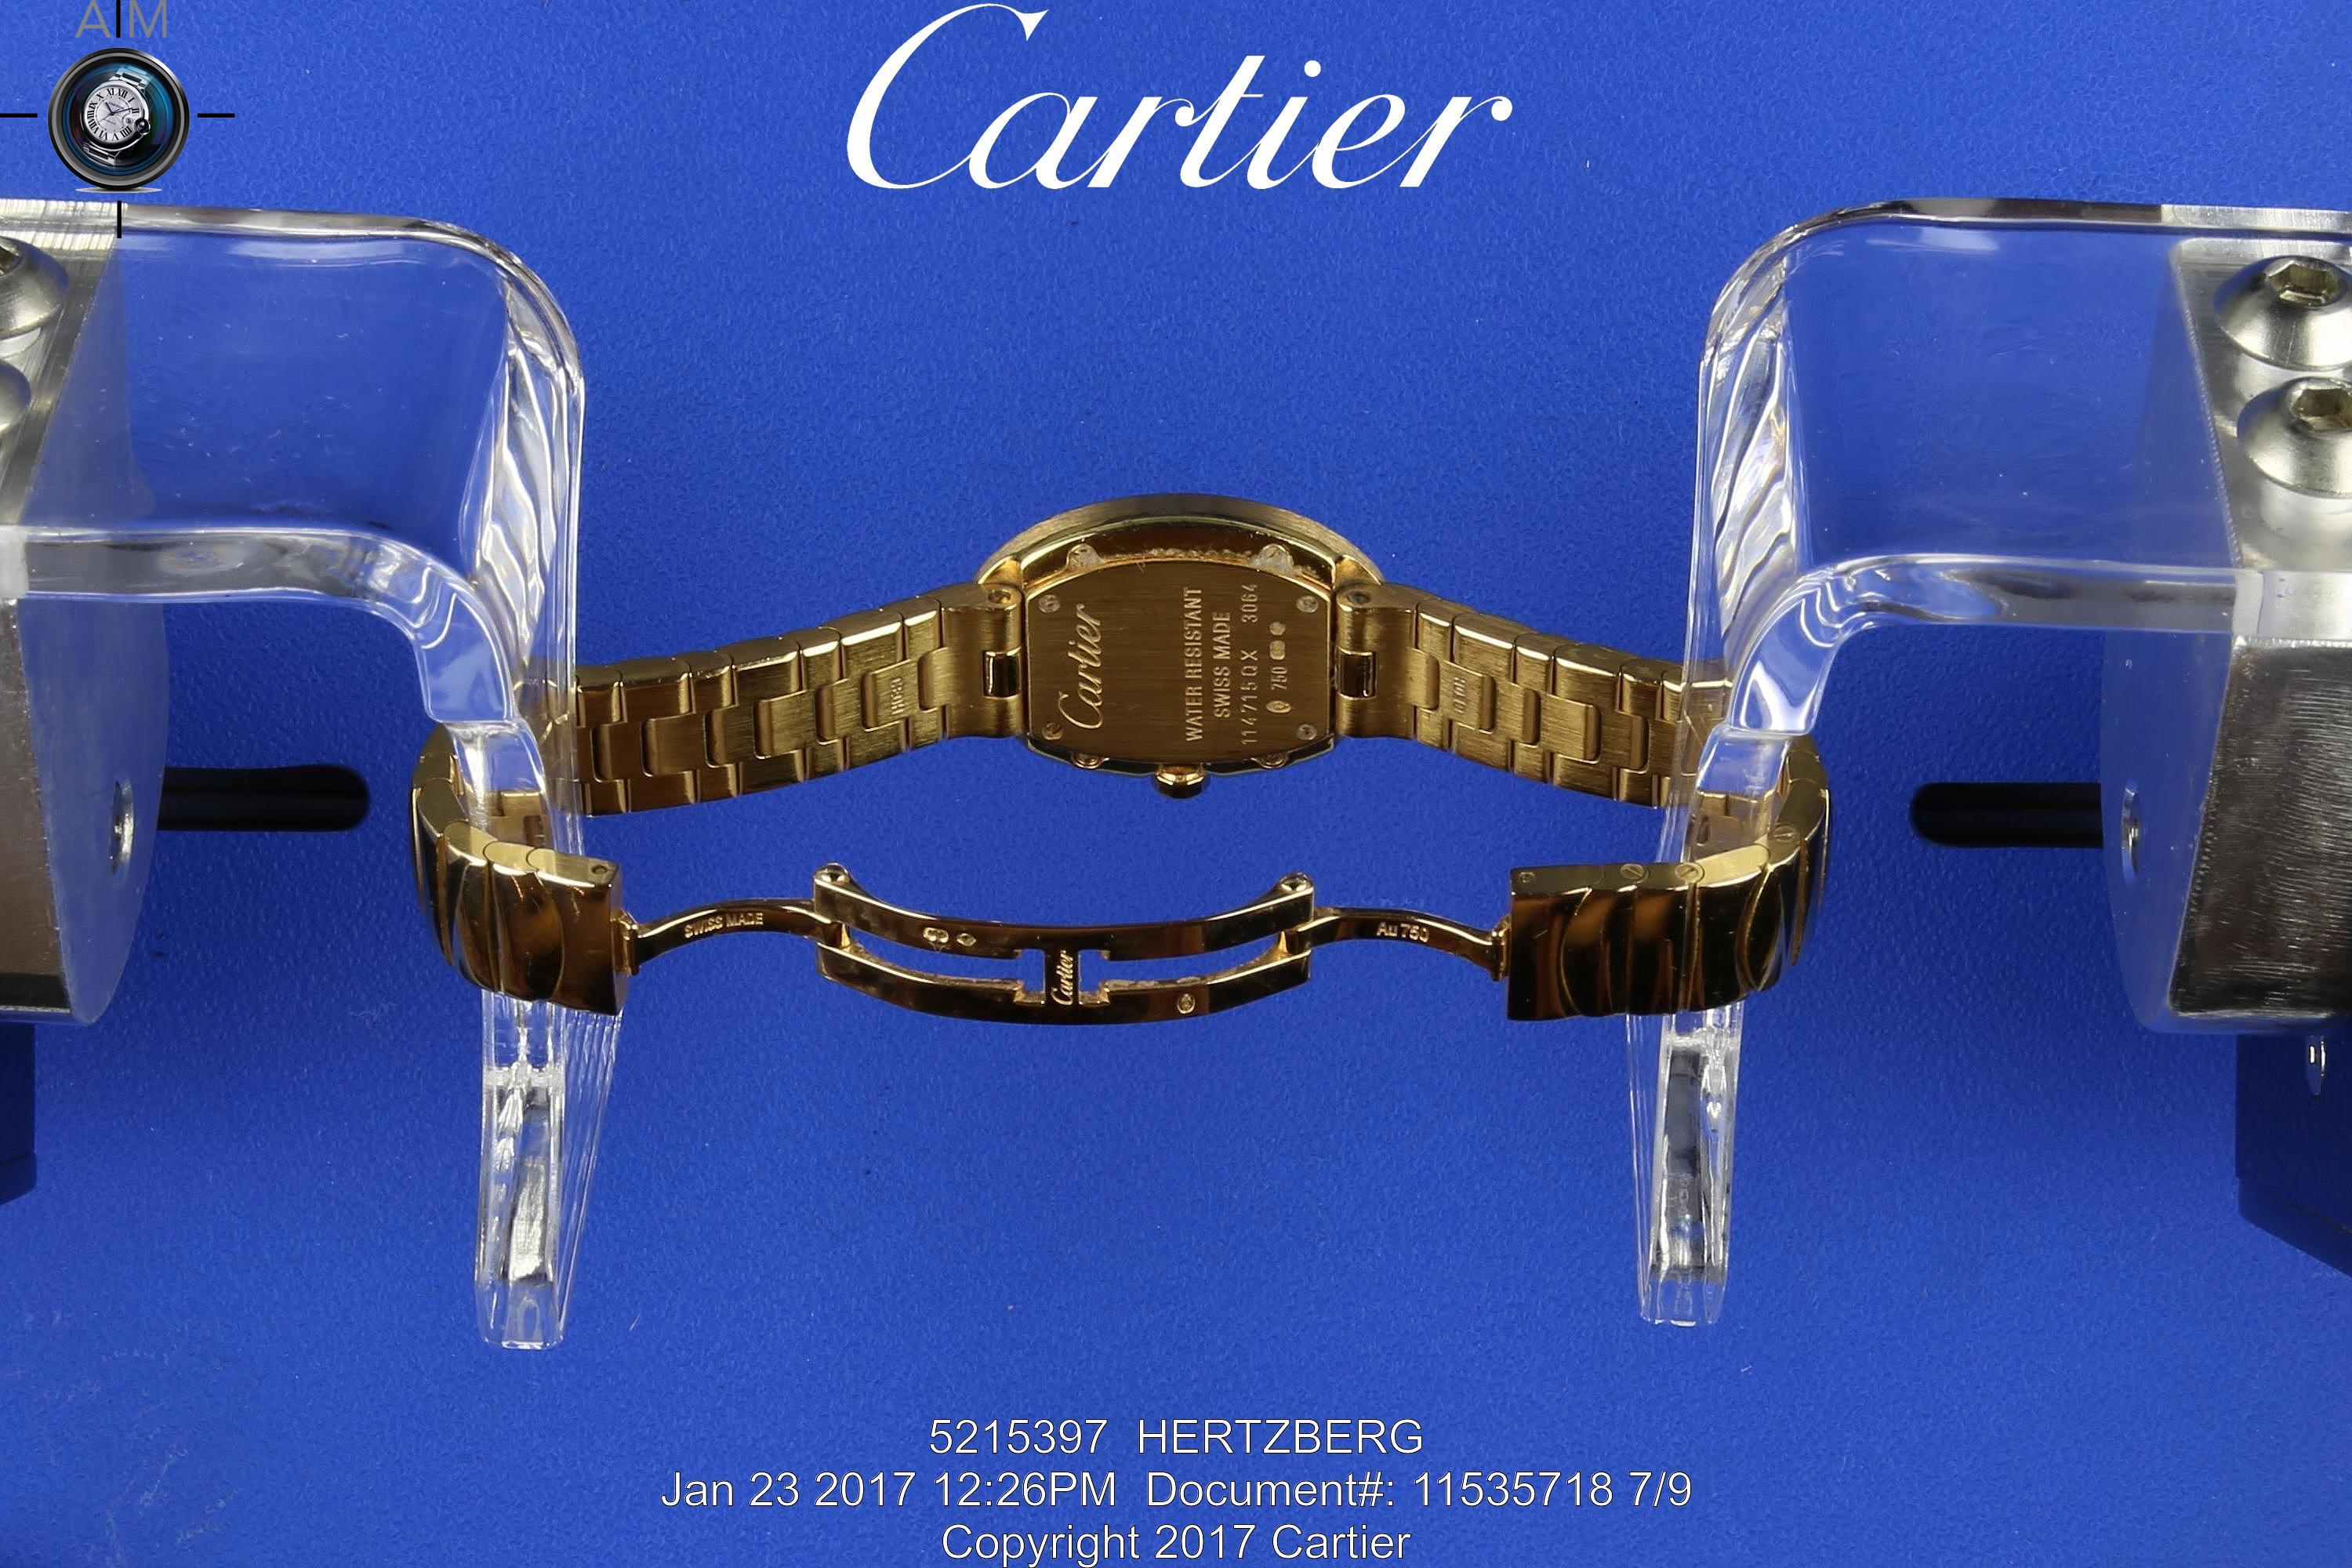Watch Back Case: (968, 487, 1404, 805)
